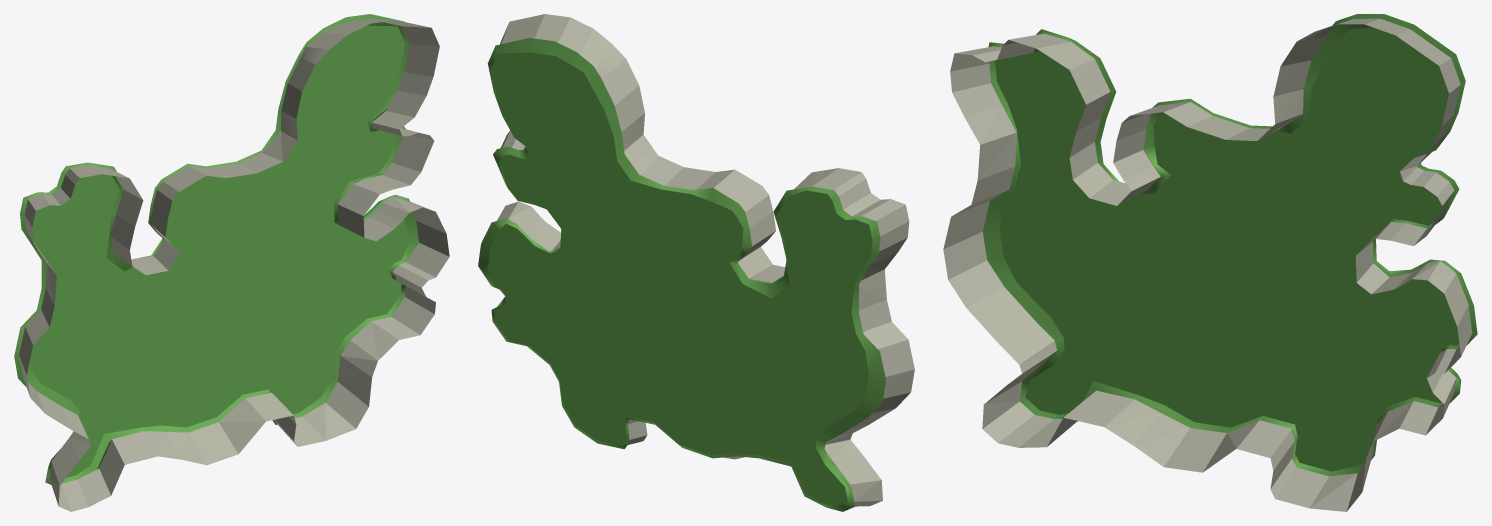
The model's file is Ground Grass 01.FBX.
3 renders of one model, left to right at view 1: azimuth 30°, elevation 25°; view 2: azimuth 150°, elevation 25°; view 3: azimuth 330°, elevation 25°, orthographic. The views are drawn at different scales.
Visible parts, largest first — view 1: Ground Grass 01; view 2: Ground Grass 01; view 3: Ground Grass 01.
Boxes of the visible parts, <box> form: Ground Grass 01: <box>14,14,449,511</box>; Ground Grass 01: <box>478,14,914,511</box>; Ground Grass 01: <box>943,14,1477,511</box>.
Bounding box in the file's own units: 1561 × 145 × 1464.
